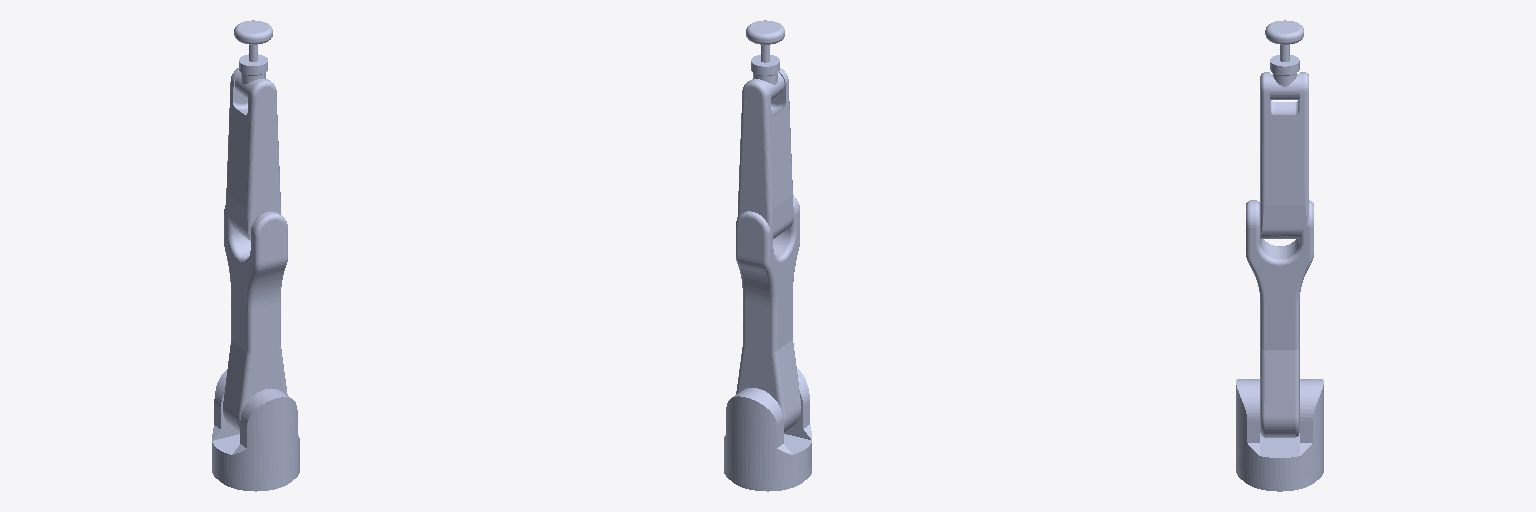
The robot description file, URDF, robot "polisher":
<?xml version="1.0" encoding="utf-8"?>
<!-- This URDF was automatically created by SolidWorks to URDF Exporter! Originally created by [author] ([email redacted]) 
     Commit Version: 1.6.0-4-g7f85cfe  Build Version: 1.6.7995.38578
     For more information, please see http://wiki.ros.org/sw_urdf_exporter -->
<robot
  name="polisher">
  <link
    name="base_link">
    <inertial>
      <origin
        xyz="1.1824E-34 0.0020988 -8.1451E-18"
        rpy="0 0 0" />
      <mass
        value="0.50894" />
      <inertia
        ixx="0.001056"
        ixy="-2.9324E-36"
        ixz="7.2641E-36"
        iyy="0.0020612"
        iyz="2.0746E-20"
        izz="0.001056" />
    </inertial>
    <visual>
      <origin
        xyz="0 0 0"
        rpy="0 0 0" />
      <geometry>
        <mesh
          filename="package://polisher/meshes/base_link.STL" />
      </geometry>
      <material
        name="">
        <color
          rgba="0.79216 0.81961 0.93333 1" />
      </material>
    </visual>
    <collision>
      <origin
        xyz="0 0 0"
        rpy="0 0 0" />
      <geometry>
        <mesh
          filename="package://polisher/meshes/base_link.STL" />
      </geometry>
    </collision>
  </link>
  <link
    name="L1">
    <inertial>
      <origin
        xyz="2.609E-07 0.069404 3.3533E-08"
        rpy="0 0 0" />
      <mass
        value="2.6203" />
      <inertia
        ixx="0.01468"
        ixy="-4.4372E-08"
        ixz="-6.9928E-10"
        iyy="0.011798"
        iyz="-7.3338E-10"
        izz="0.011038" />
    </inertial>
    <visual>
      <origin
        xyz="0 0 0"
        rpy="0 0 0" />
      <geometry>
        <mesh
          filename="package://polisher/meshes/L1.STL" />
      </geometry>
      <material
        name="">
        <color
          rgba="0.79216 0.81961 0.93333 1" />
      </material>
    </visual>
    <collision>
      <origin
        xyz="0 0 0"
        rpy="0 0 0" />
      <geometry>
        <mesh
          filename="package://polisher/meshes/L1.STL" />
      </geometry>
    </collision>
  </link>
  <joint
    name="J1"
    type="revolute">
    <origin
      xyz="0 0 0.01"
      rpy="1.5708 0 0" />
    <parent
      link="base_link" />
    <child
      link="L1" />
    <axis
      xyz="0 1 0" />
    <limit
      lower="-3.141"
      upper="3.141"
      effort="5"
      velocity="1" />
  </joint>
  <link
    name="L2">
    <inertial>
      <origin
        xyz="2.5758E-09 -2.0066E-08 -0.17282"
        rpy="0 0 0" />
      <mass
        value="3.6365" />
      <inertia
        ixx="0.077736"
        ixy="-1.0778E-10"
        ixz="-4.0562E-10"
        iyy="0.078819"
        iyz="1.4721E-08"
        izz="0.0059647" />
    </inertial>
    <visual>
      <origin
        xyz="0 0 0"
        rpy="0 0 0" />
      <geometry>
        <mesh
          filename="package://polisher/meshes/L2.STL" />
      </geometry>
      <material
        name="">
        <color
          rgba="0.79216 0.81961 0.93333 1" />
      </material>
    </visual>
    <collision>
      <origin
        xyz="0 0 0"
        rpy="0 0 0" />
      <geometry>
        <mesh
          filename="package://polisher/meshes/L2.STL" />
      </geometry>
    </collision>
  </link>
  <joint
    name="J2"
    type="revolute">
    <origin
      xyz="0 0.13062 0"
      rpy="1.5708 -1.5708 0" />
    <parent
      link="L1" />
    <child
      link="L2" />
    <axis
      xyz="1 0 0" />
    <limit
      lower="-3.141"
      upper="3.141"
      effort="5"
      velocity="1" />
  </joint>
  <link
    name="L3">
    <inertial>
      <origin
        xyz="0.01 7.4465E-08 -0.11079"
        rpy="0 0 0" />
      <mass
        value="2.2512" />
      <inertia
        ixx="0.019258"
        ixy="-2.3005E-09"
        ixz="4.644E-09"
        iyy="0.020386"
        iyz="1.9429E-09"
        izz="0.0030744" />
    </inertial>
    <visual>
      <origin
        xyz="0 0 0"
        rpy="0 0 0" />
      <geometry>
        <mesh
          filename="package://polisher/meshes/L3.STL" />
      </geometry>
      <material
        name="">
        <color
          rgba="0.79216 0.81961 0.93333 1" />
      </material>
    </visual>
    <collision>
      <origin
        xyz="0 0 0"
        rpy="0 0 0" />
      <geometry>
        <mesh
          filename="package://polisher/meshes/L3.STL" />
      </geometry>
    </collision>
  </link>
  <joint
    name="J3"
    type="revolute">
    <origin
      xyz="0 0 -0.425"
      rpy="0 0 -3.1416" />
    <parent
      link="L2" />
    <child
      link="L3" />
    <axis
      xyz="1 0 0" />
    <limit
      lower="-3.141"
      upper="3.141"
      effort="5"
      velocity="1" />
  </joint>
  <link
    name="L4">
    <inertial>
      <origin
        xyz="-0.01 5.9649E-08 -0.0081105"
        rpy="0 0 0" />
      <mass
        value="0.22465" />
      <inertia
        ixx="0.00012689"
        ixy="-1.3381E-10"
        ixz="-6.8739E-12"
        iyy="0.00017646"
        iyz="7.2481E-11"
        izz="0.00013362" />
    </inertial>
    <visual>
      <origin
        xyz="0 0 0"
        rpy="0 0 0" />
      <geometry>
        <mesh
          filename="package://polisher/meshes/L4.STL" />
      </geometry>
      <material
        name="">
        <color
          rgba="0.79216 0.81961 0.93333 1" />
      </material>
    </visual>
    <collision>
      <origin
        xyz="0 0 0"
        rpy="0 0 0" />
      <geometry>
        <mesh
          filename="package://polisher/meshes/L4.STL" />
      </geometry>
    </collision>
  </link>
  <joint
    name="J4"
    type="revolute">
    <origin
      xyz="0 0 -0.3"
      rpy="0 0 3.1416" />
    <parent
      link="L3" />
    <child
      link="L4" />
    <axis
      xyz="1 0 0" />
    <limit
      lower="-3.141"
      upper="3.141"
      effort="5"
      velocity="1" />
  </joint>
  <link
    name="L5">
    <inertial>
      <origin
        xyz="1.2143E-17 -4.5869E-16 -0.058396"
        rpy="0 0 0" />
      <mass
        value="0.16928" />
      <inertia
        ixx="0.00020457"
        ixy="8.4957E-21"
        ixz="1.5658E-20"
        iyy="0.00020457"
        iyz="3.1565E-21"
        izz="0.00010248" />
    </inertial>
    <visual>
      <origin
        xyz="0 0 0"
        rpy="0 0 0" />
      <geometry>
        <mesh
          filename="package://polisher/meshes/L5.STL" />
      </geometry>
      <material
        name="">
        <color
          rgba="0.79216 0.81961 0.93333 1" />
      </material>
    </visual>
    <collision>
      <origin
        xyz="0 0 0"
        rpy="0 0 0" />
      <geometry>
        <mesh
          filename="package://polisher/meshes/L5.STL" />
      </geometry>
    </collision>
  </link>
  <joint
    name="J5"
    type="revolute">
    <origin
      xyz="-0.01 0 -0.045"
      rpy="0 0 -3.1416" />
    <parent
      link="L4" />
    <child
      link="L5" />
    <axis
      xyz="0 0 1" />
    <limit
      lower="-3.141"
      upper="3.141"
      effort="5"
      velocity="1" />
  </joint>
</robot>

--- Render facts (derived) ---
The picture shows the robot from 3 angles, left to right: view 1: azimuth 30°, elevation 25°; view 2: azimuth 150°, elevation 25°; view 3: azimuth 270°, elevation 25°; orthographic projection.
Model polisher with 6 links and 5 joints (5 revolute), rooted at base_link, posed every joint at zero.
Visible links, largest first — view 1: L2, L3, L1, L5, base_link; view 2: L2, L3, L1, L5, base_link, L4; view 3: L2, L3, L1, L5, base_link, L4.
Boxes of the visible links, x1,y1,x2,y2 form: L2: (223, 205, 287, 432); L3: (226, 68, 280, 240); L1: (212, 370, 299, 479); L5: (234, 20, 272, 70); base_link: (212, 464, 299, 491); L2: (736, 195, 801, 431); L3: (737, 68, 793, 244); L1: (724, 369, 811, 479); L5: (746, 20, 784, 70); base_link: (724, 465, 811, 491); L4: (751, 67, 784, 99); L2: (1246, 200, 1313, 437); L3: (1260, 72, 1308, 238); L1: (1236, 379, 1323, 479); L5: (1265, 20, 1303, 70); base_link: (1236, 464, 1323, 491); L4: (1270, 65, 1299, 99).
Size in the robot's own frame: 0.18 by 0.18 by 1.01 metres.
6 mesh visuals loaded from 6 distinct referenced files (6 binary STL).